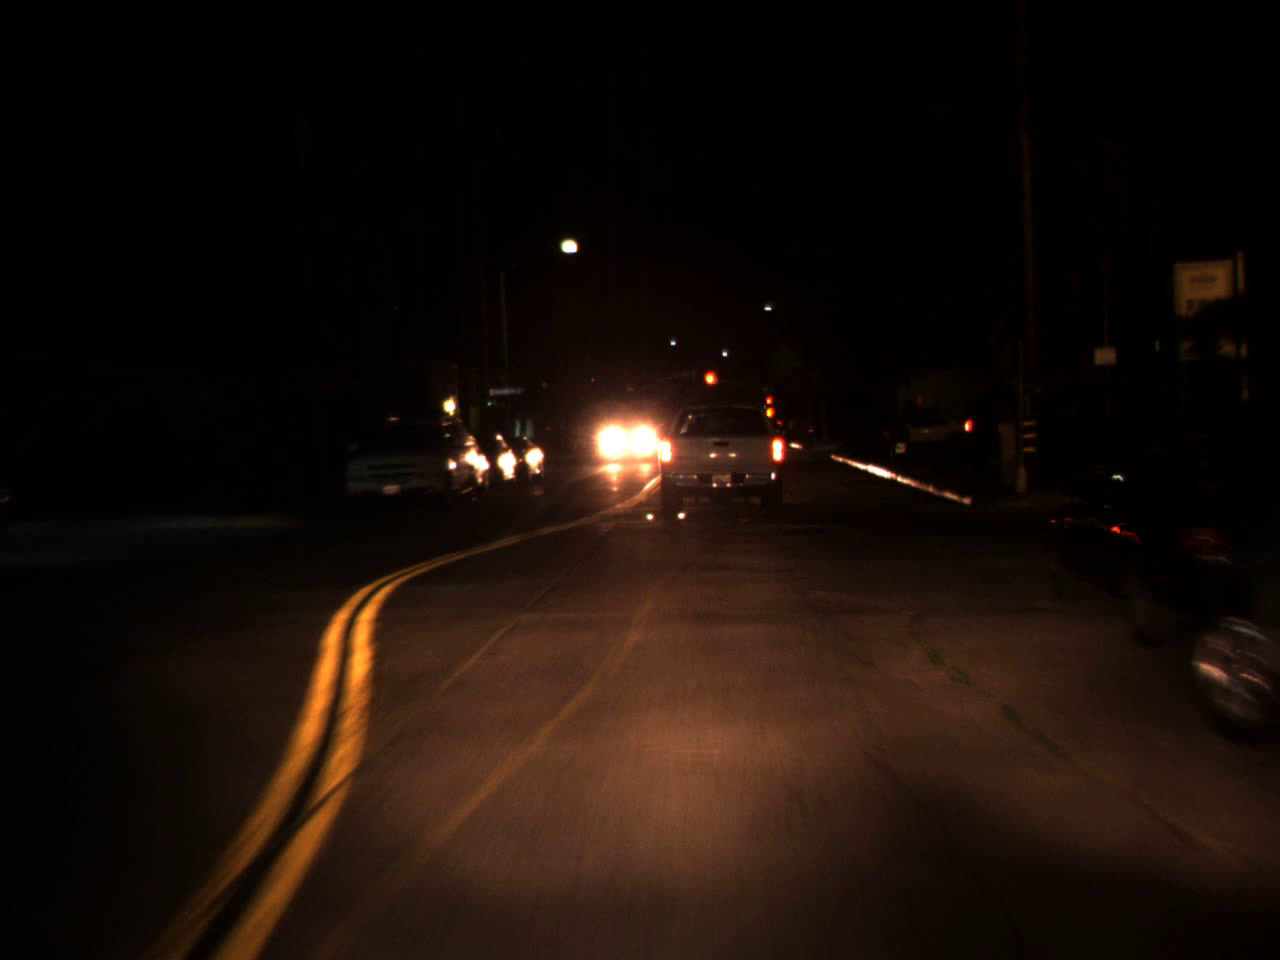stop: (702, 369, 718, 401), (765, 396, 772, 412)
